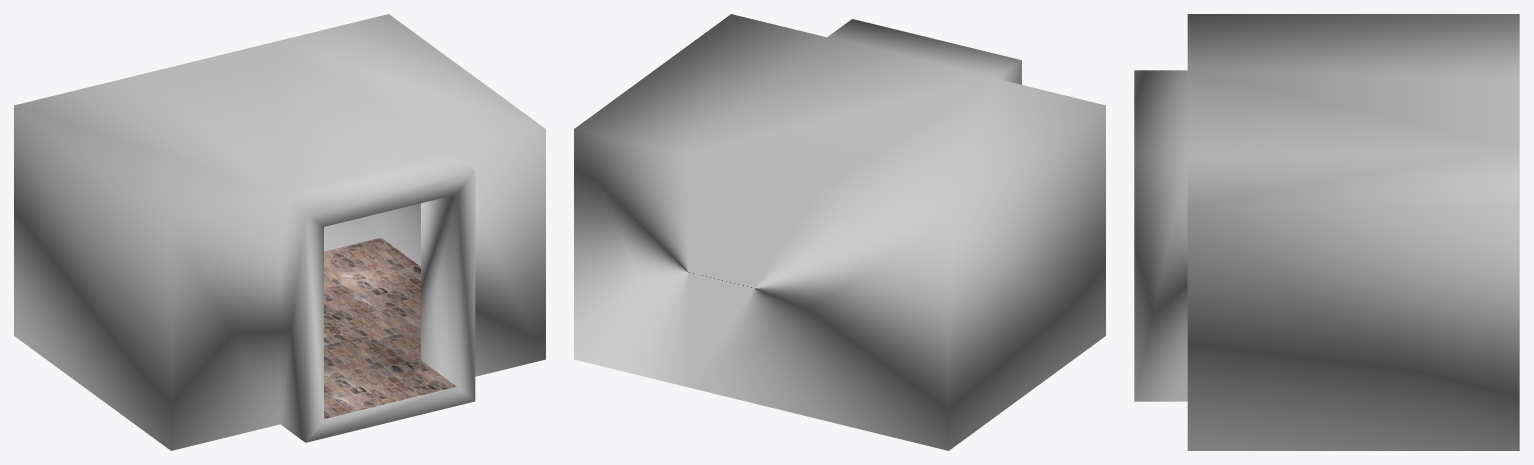
File: rooma.dae
3 renders of one model, left to right at view 1: azimuth 30°, elevation 25°; view 2: azimuth 150°, elevation 25°; view 3: azimuth 270°, elevation 25°, orthographic. The views are drawn at different scales.
Visible parts, largest first — view 1: meshU3D; view 2: meshU3D; view 3: meshU3D.
Boxes of the visible parts, left/top/right/bottom form: meshU3D: left=14, top=14, right=545, bottom=450; meshU3D: left=574, top=14, right=1105, bottom=450; meshU3D: left=1134, top=14, right=1519, bottom=450.
Size of the model in its own units: 11.12 by 6.54 by 9.38.
